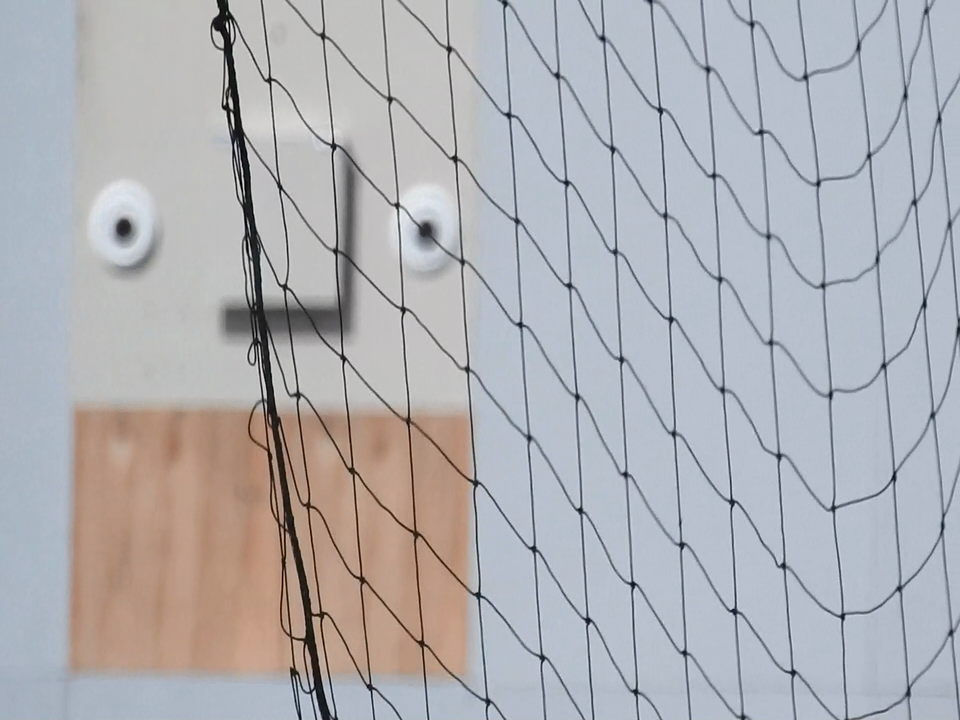facade: (94, 127, 457, 313)
